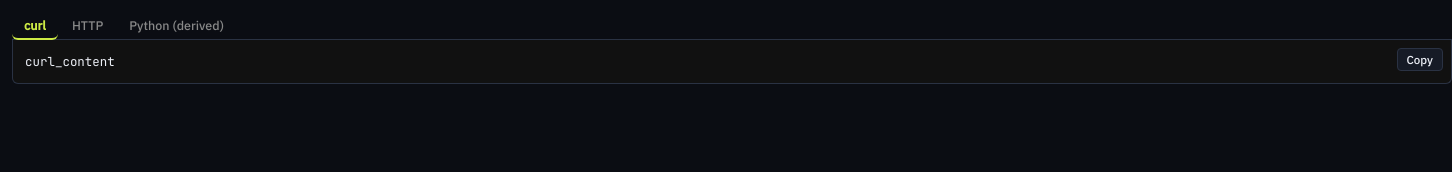
Test: ArtifactTabs › switches tab content when a tab is clicked
Expected: the text "curl_content" is shown, [25,53,115,70]
Click the tab "HTTP".
click(88, 26)  # box [60,12,115,40]
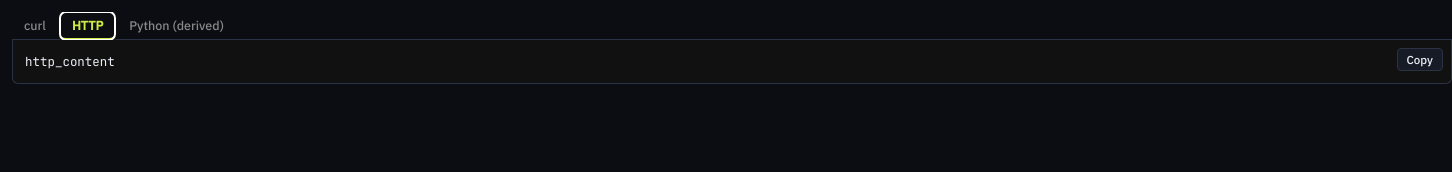
Expected: the text "http_content" is shown, [25,53,115,70]
